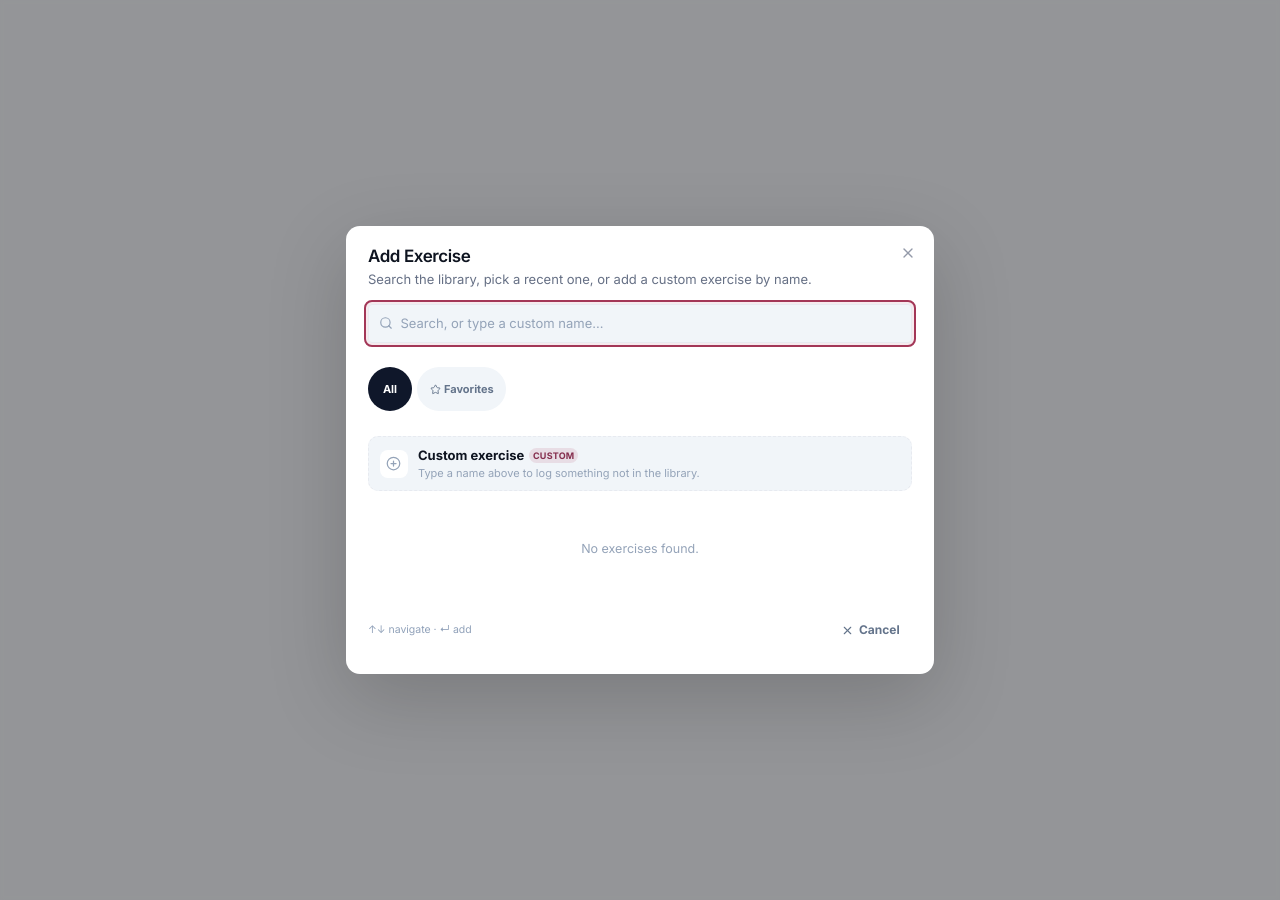
Scenario: Custom exercise › points at the Custom option when a search comes back empty
Type "Jefferson curl" into the field named "Search exercises".
click(640, 323); type("Jefferson curl")  # box 368,304 -> 912,343
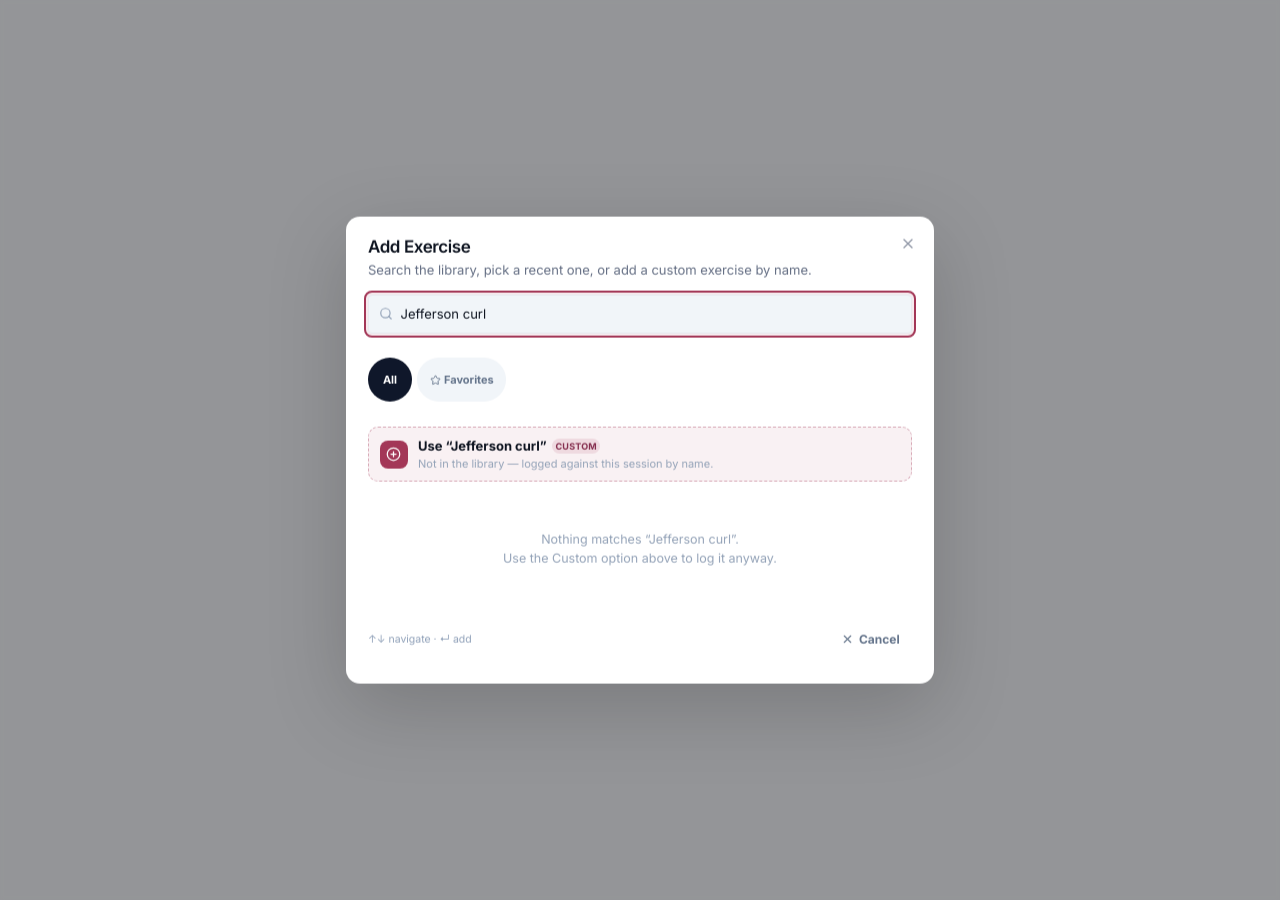
Check: the text "Use the Custom option above" is shown, box 503,551 -> 777,566
